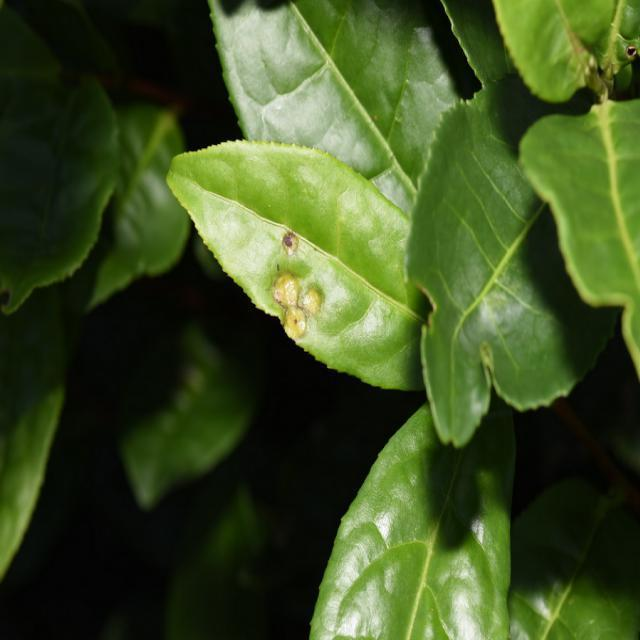Tea cake: (268, 228, 330, 340)
